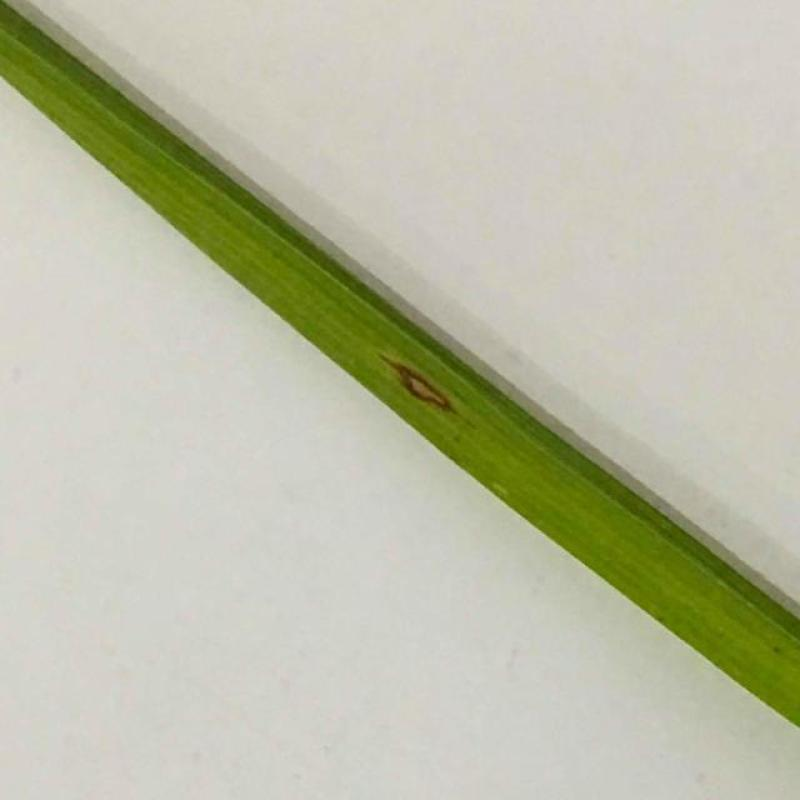Leaf_Blast: (352, 312, 492, 470)
